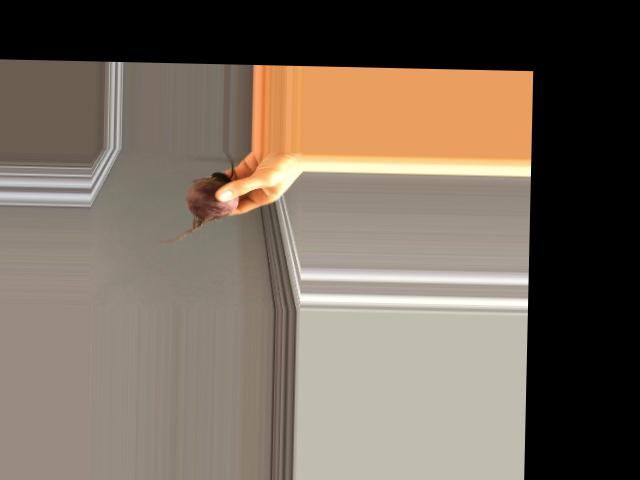beet: (157, 148, 239, 244)
